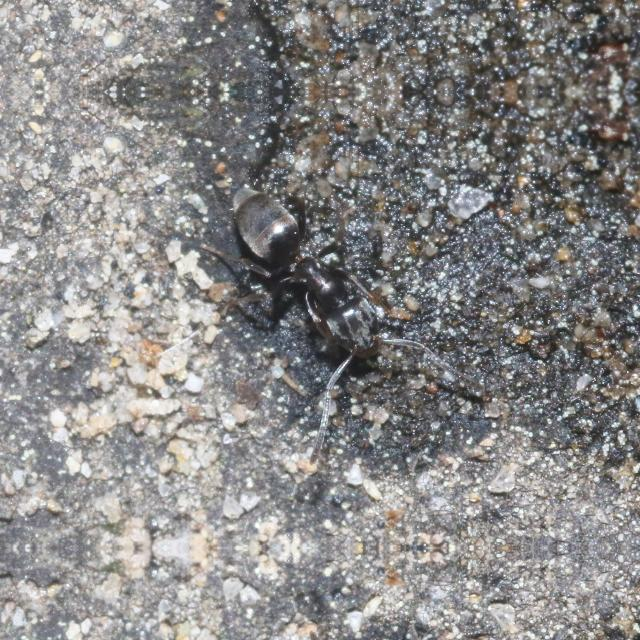Tapinoma: (178, 174, 430, 378)
